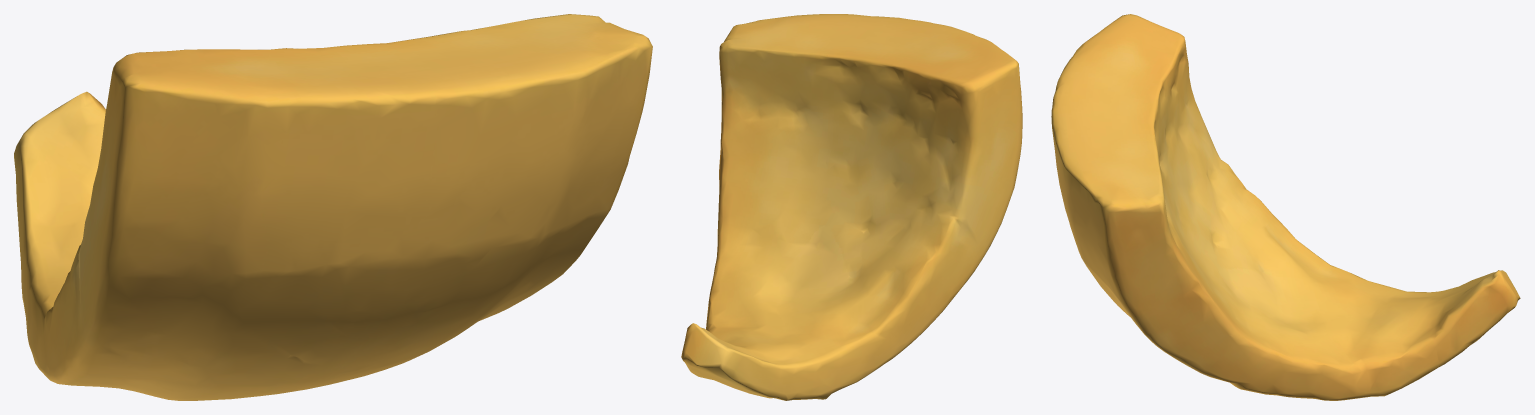
File: tripo_convert_64716346-143a-4bf7-ada3-46e53b6aa2ac.fbx
The picture shows the model from 3 angles, left to right: view 1: azimuth 30°, elevation 25°; view 2: azimuth 150°, elevation 25°; view 3: azimuth 270°, elevation 25°; orthographic projection. The views are drawn at different scales.
Visible parts, largest first — view 1: tripo_node_64716346; view 2: tripo_node_64716346; view 3: tripo_node_64716346.
Boxes of the visible parts, bbox=[...] form: tripo_node_64716346: bbox=[14, 14, 652, 400]; tripo_node_64716346: bbox=[681, 14, 1022, 400]; tripo_node_64716346: bbox=[1051, 14, 1520, 400].
Bounding box in the file's own units: 0.7829 × 0.6852 × 1.
1 material, 1 textured.
